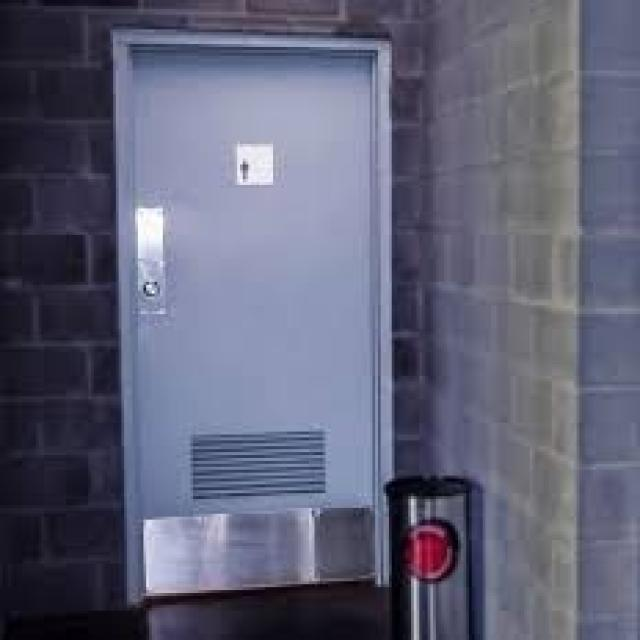door: (114, 27, 396, 610)
